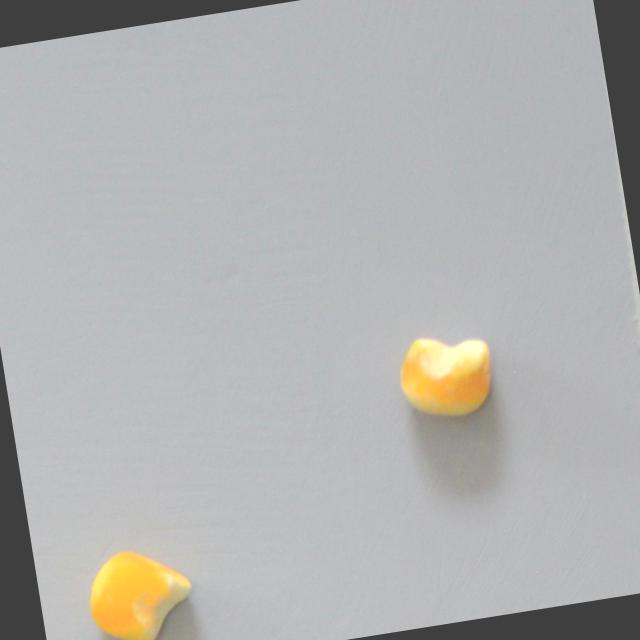dañado: (389, 322, 503, 429)
no_canjicado: (79, 537, 203, 640)
